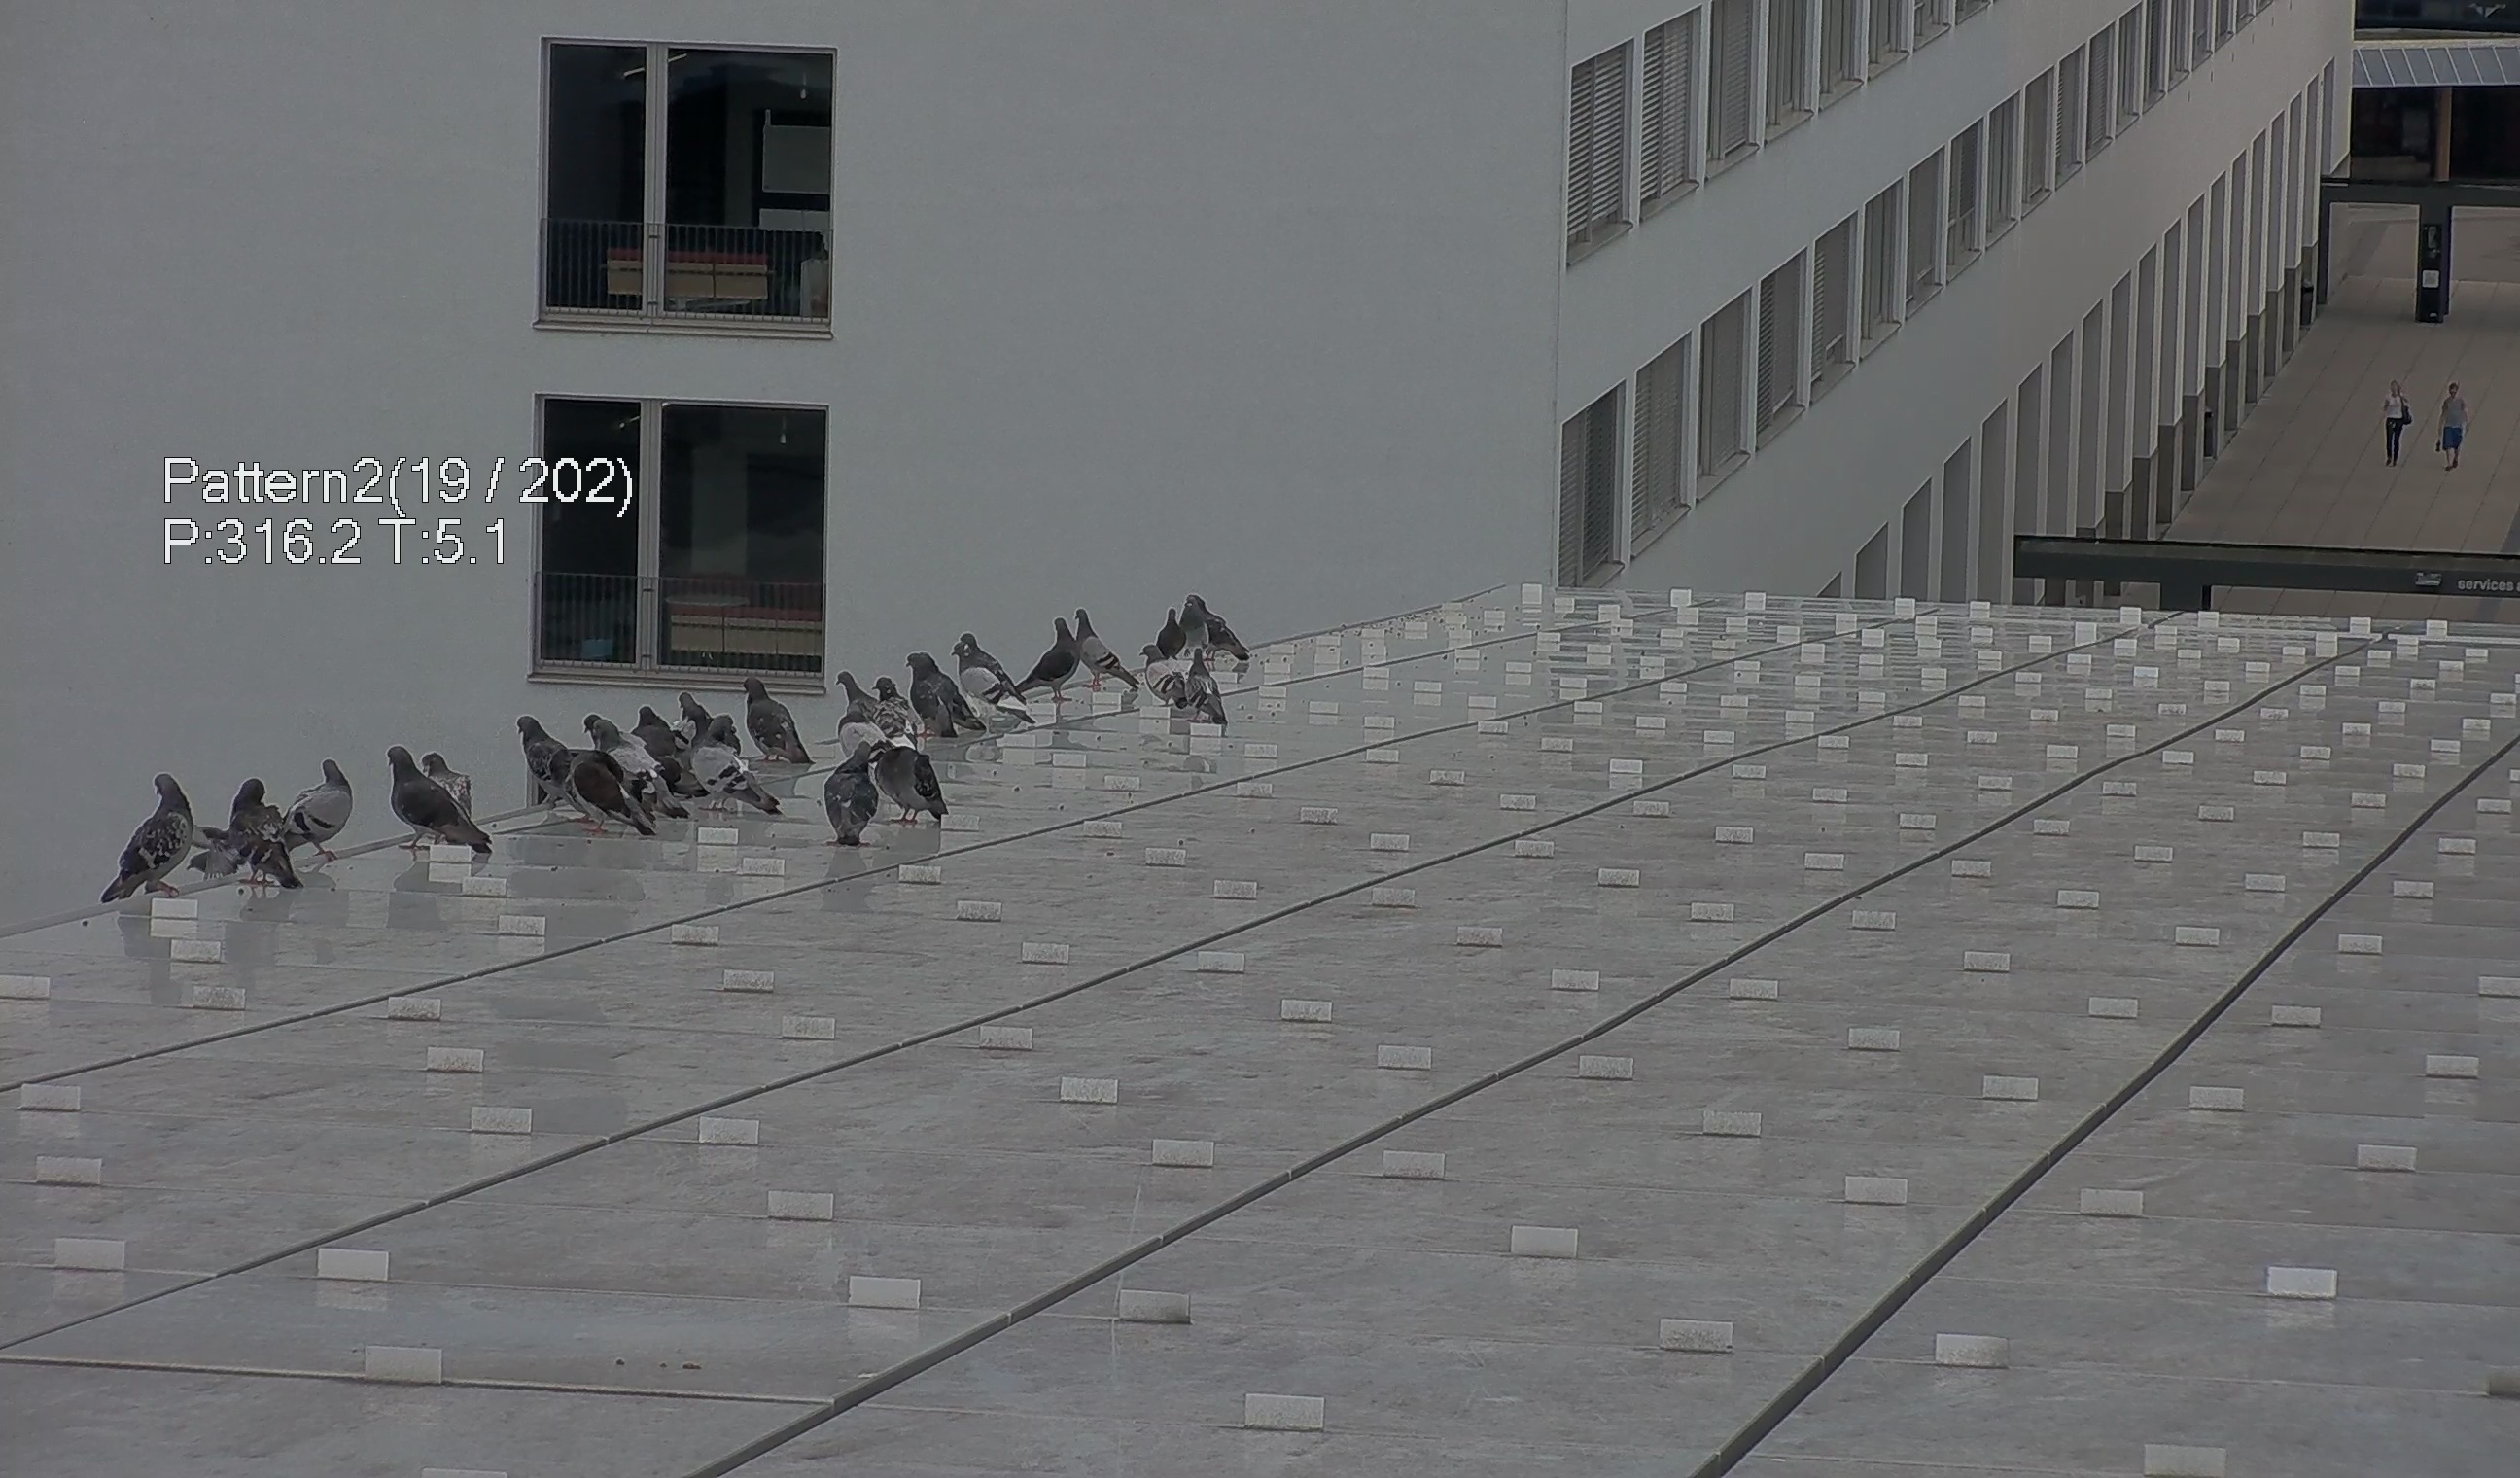Pigeon: (93, 760, 223, 910), (368, 732, 489, 871), (204, 760, 310, 892), (904, 632, 994, 751), (1008, 598, 1089, 716), (869, 728, 950, 841), (285, 741, 353, 860), (821, 734, 892, 845), (747, 674, 814, 771), (1073, 604, 1138, 702), (1184, 642, 1233, 730), (426, 743, 482, 818), (526, 713, 573, 801), (591, 716, 649, 787), (1136, 642, 1184, 716), (841, 662, 893, 723), (642, 704, 682, 769), (1148, 605, 1184, 648)
